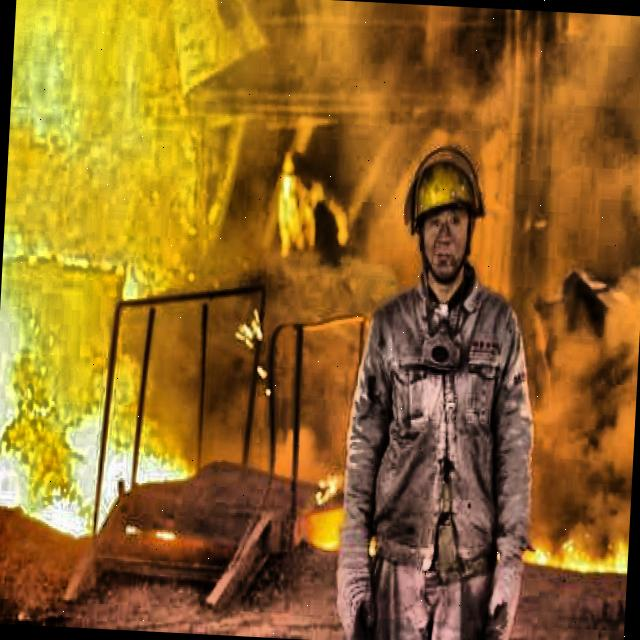helmet: (394, 130, 488, 296)
